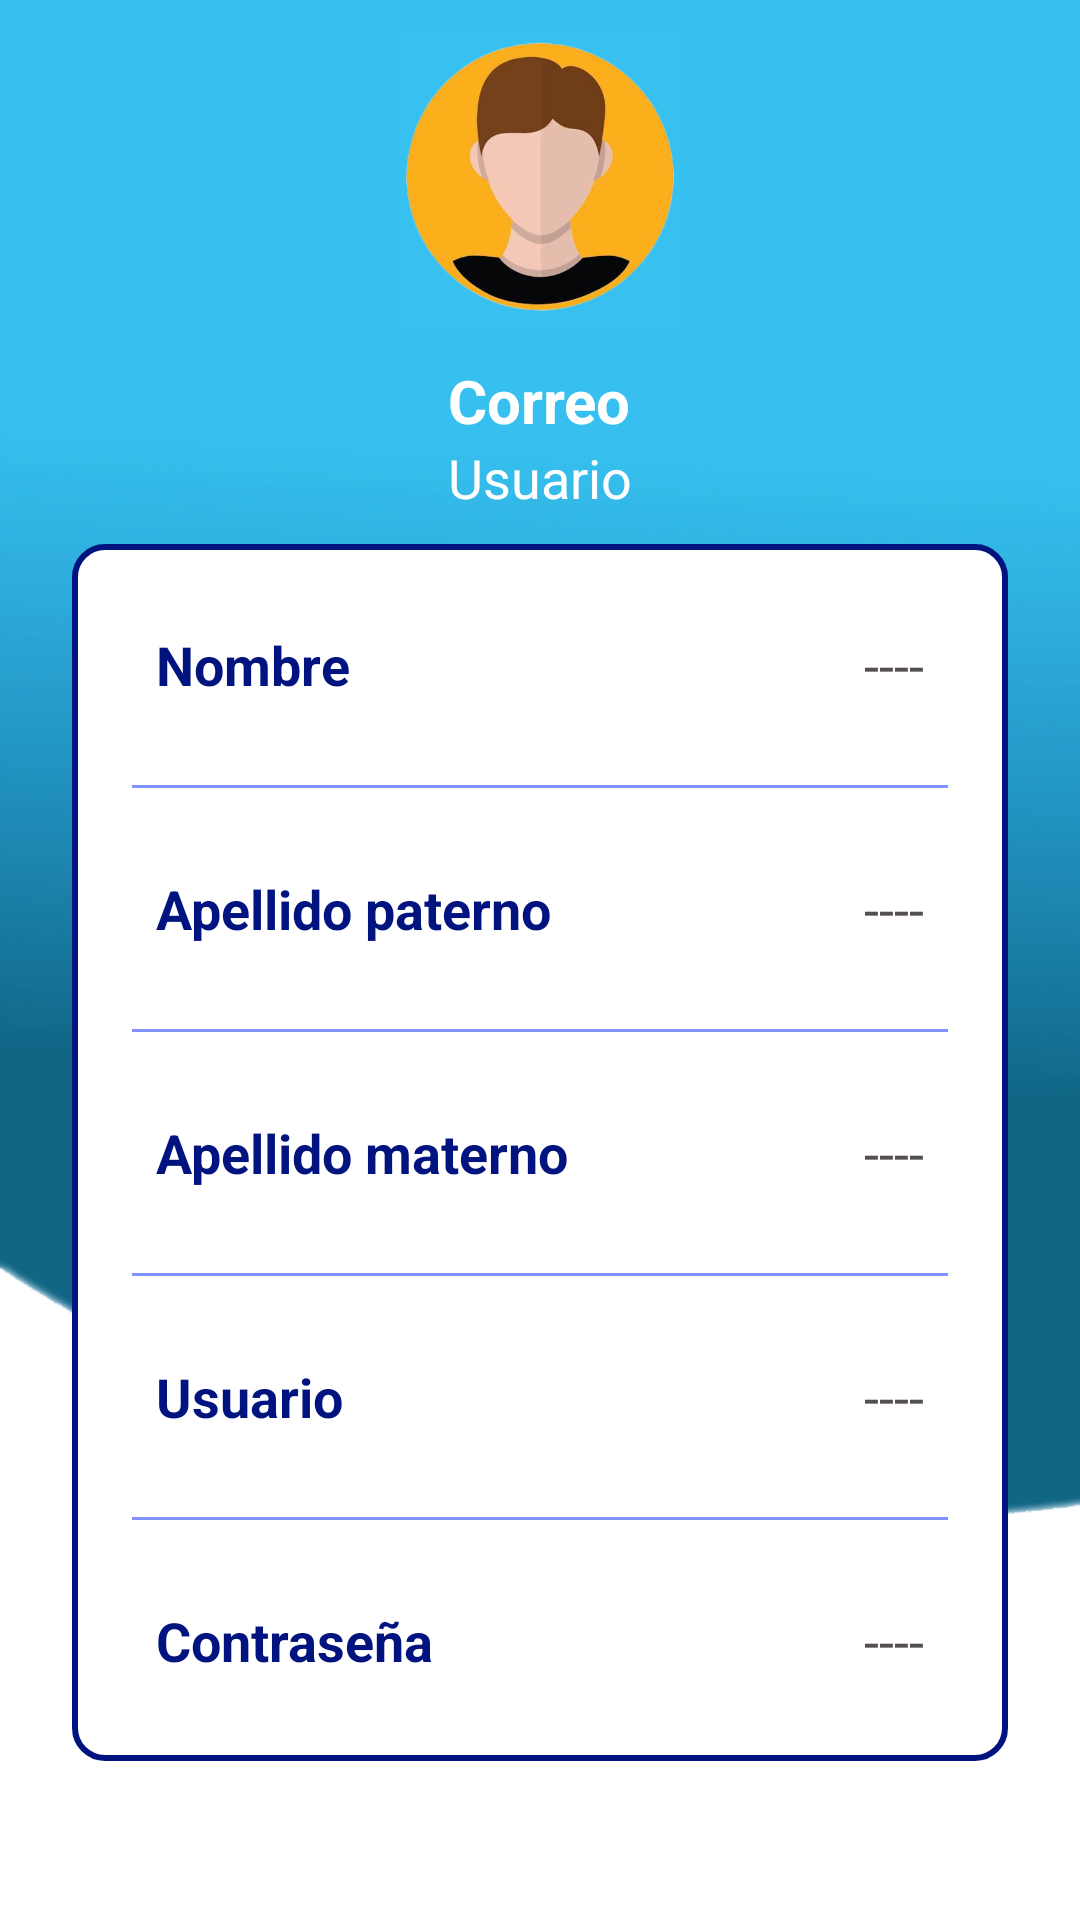

Where icons sit on this 1080x1920 app screen, as [x1,y1,x2,y2]:
cuenta: [406,42,674,311]
